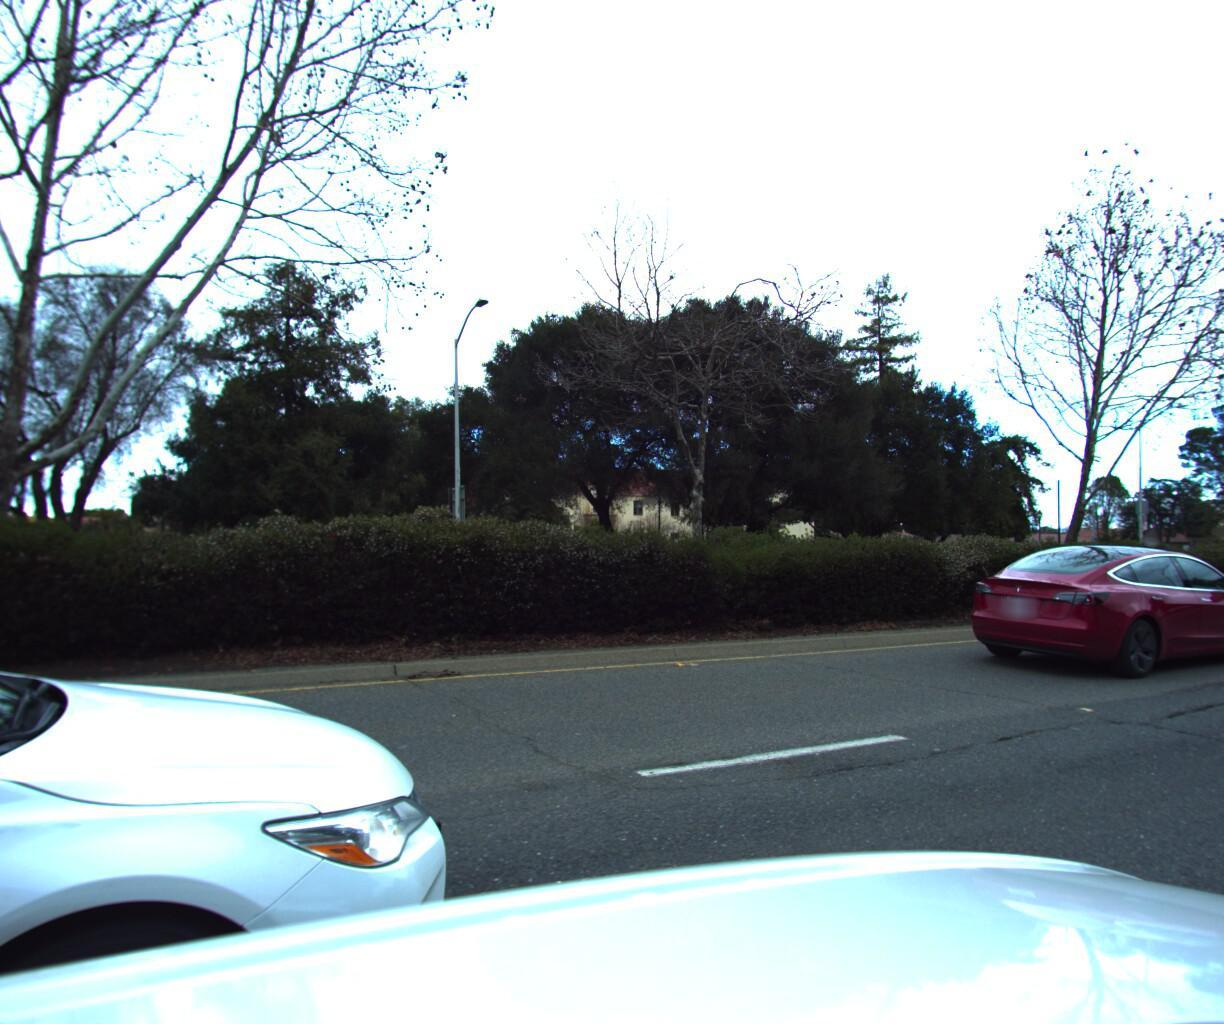car: (0, 462, 512, 1024), (944, 526, 1224, 677)
